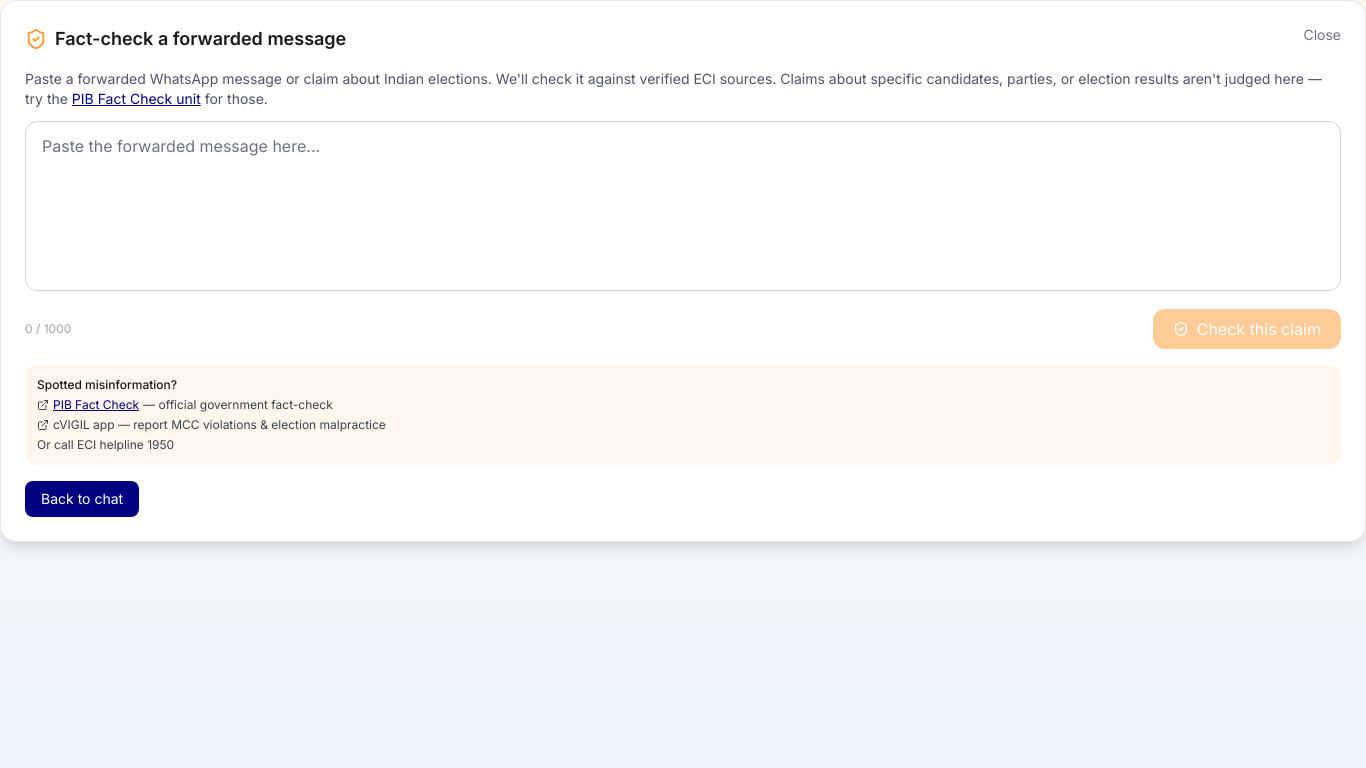
FactChecker › renders the verdict badge after a successful fact-check
Type "EVMs can be hacked from China" into the text box with placeholder "Paste the forwarded message here...".
click(683, 206); type("EVMs can be hacked from China")  # box [25,121,1341,291]
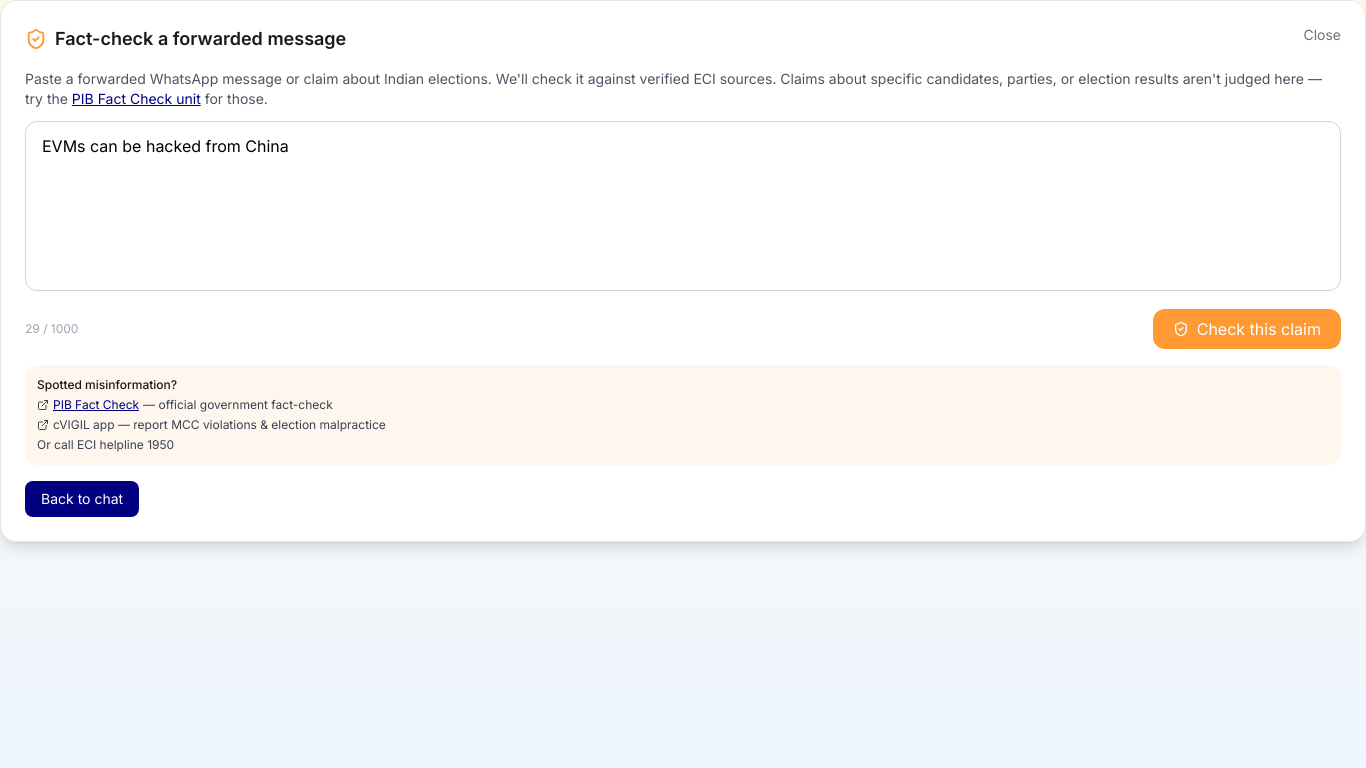
Click the button "Check this claim".
click(1247, 329)  # box [1153,309,1341,349]
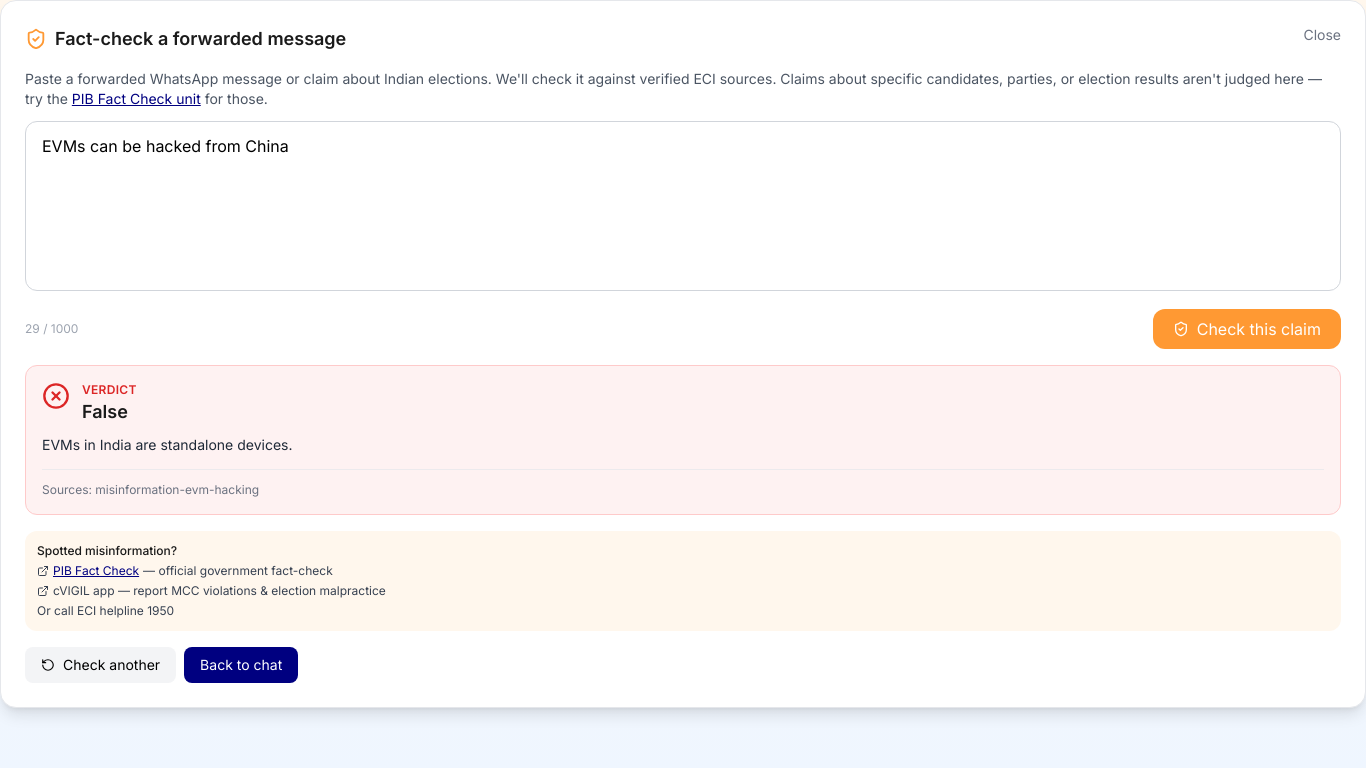
Expected: the heading "False" is shown, [82,401,128,422]
Expected: the text "EVMs in India are standalone devices." is shown, [42,436,292,453]
Expected: the text "Sources: misinformation-evm-hacking" is shown, [42,482,259,497]
